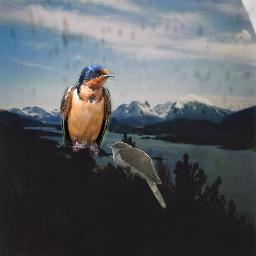Cuckoo: (107, 142, 166, 210)
Swallow: (60, 64, 115, 158)
